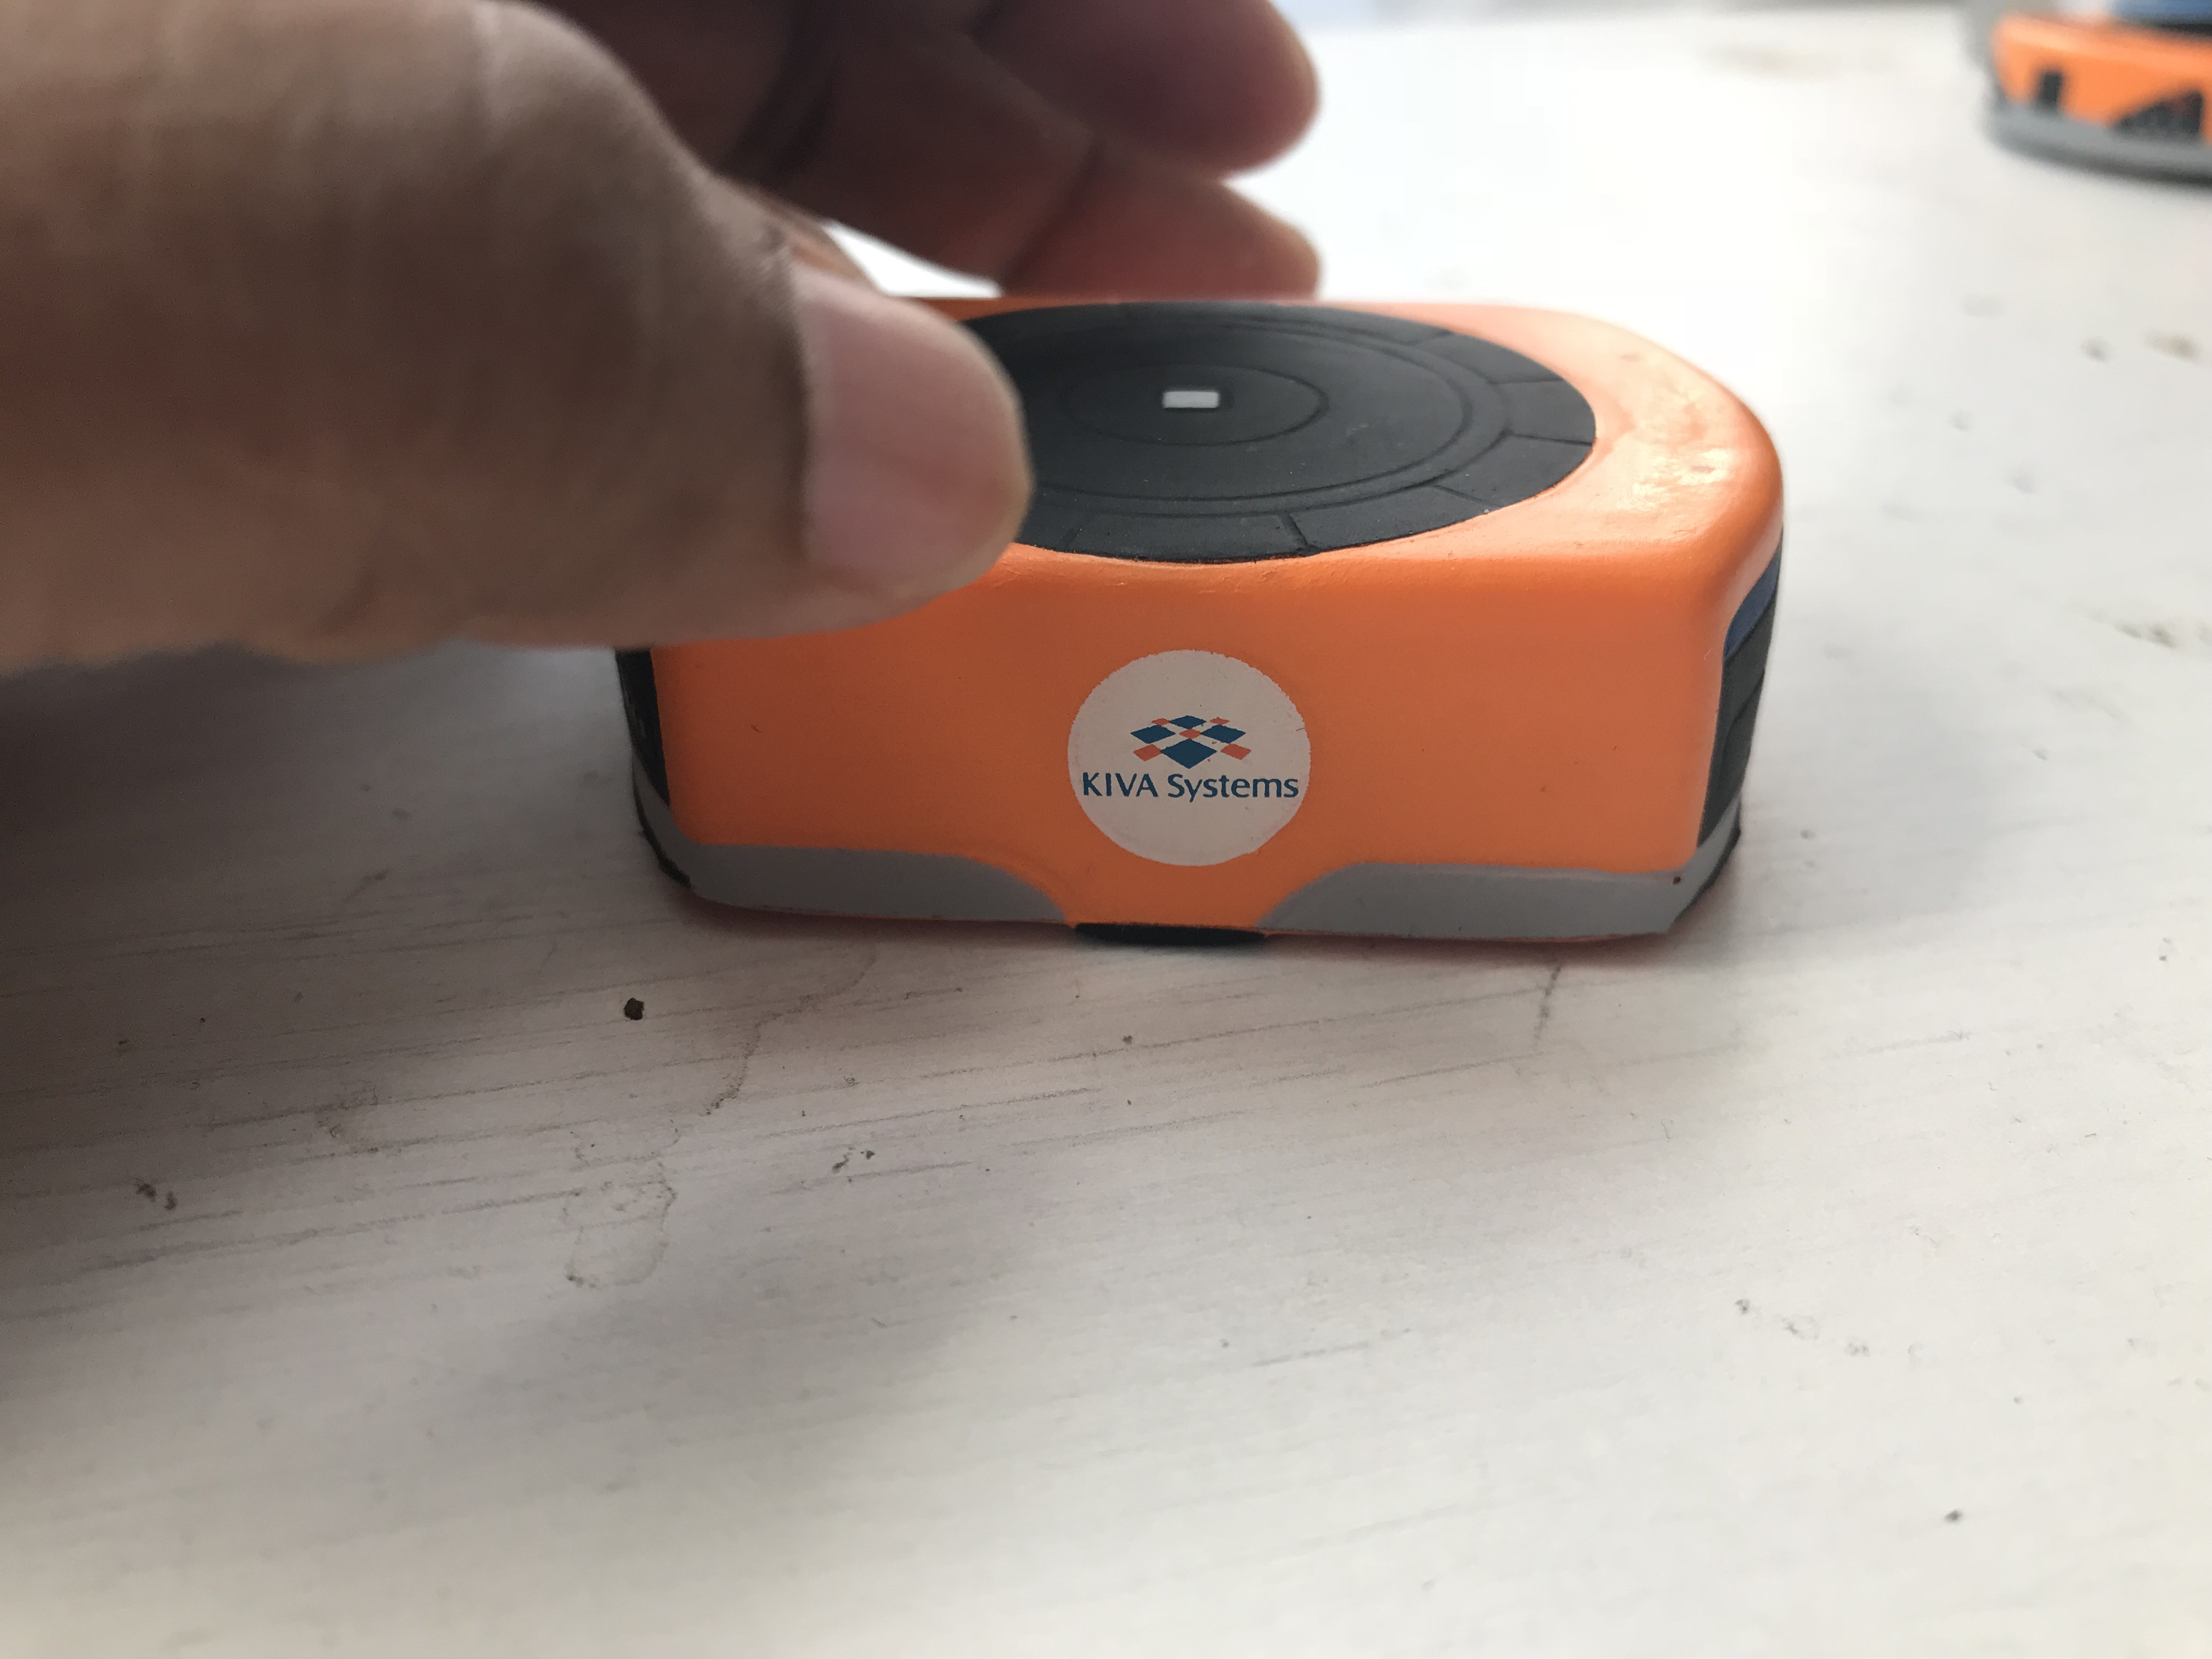amazon_bot: (620, 291, 1787, 958)
